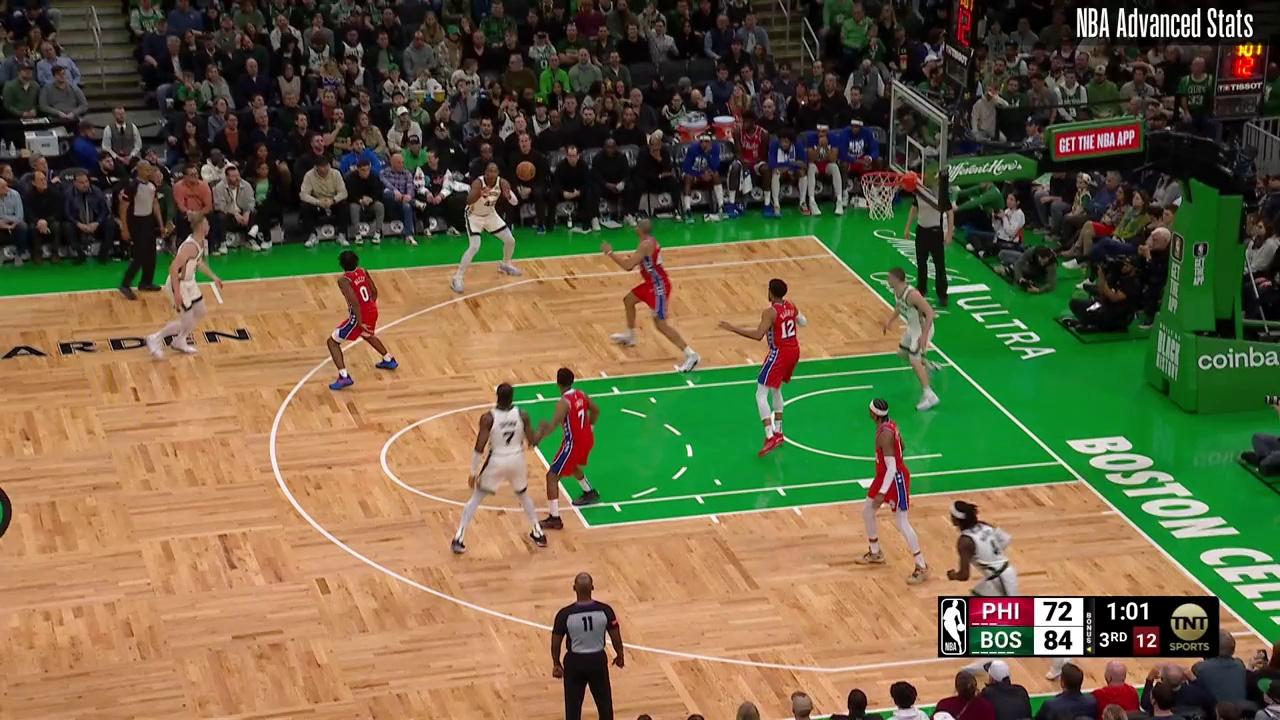3_dx: (1248, 626, 1261, 638)
3_sx: (828, 250, 839, 260)
b_sx: (809, 233, 817, 241)
free_adx: (583, 521, 593, 533)
free_asx: (490, 382, 503, 394)
free_bdx: (1076, 475, 1090, 487)
free_bsx: (930, 343, 941, 354)
mid_sx: (215, 298, 227, 309)
referee: (549, 570, 626, 720), (118, 156, 168, 301), (906, 178, 955, 304)
team: (952, 508, 1069, 676), (452, 382, 546, 549), (149, 214, 224, 355), (452, 161, 521, 294), (882, 268, 943, 410)
team1: (600, 216, 703, 372), (722, 279, 807, 458), (856, 398, 928, 584), (327, 249, 399, 394), (543, 369, 601, 530)
timer: (1098, 597, 1152, 627)
